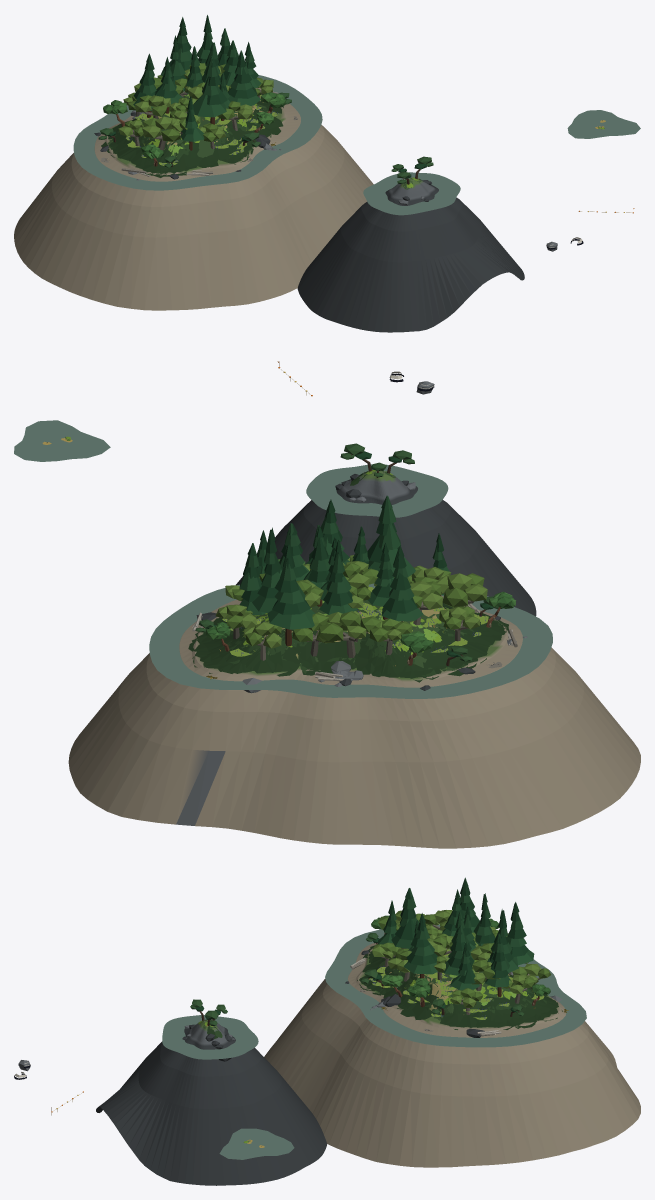
The model's file is chunk_-2_0.glb.
3 renders of one model, top to bottom at view 1: azimuth 30°, elevation 25°; view 2: azimuth 150°, elevation 25°; view 3: azimuth 270°, elevation 25°, orthographic. The views are drawn at different scales.
Parts seen in each view (by area): view 1: chunk_-2_0; view 2: chunk_-2_0; view 3: chunk_-2_0.
Part boxes in pixels (x1,y1,x2,y2): chunk_-2_0: (14,15,640,332); chunk_-2_0: (14,361,640,848); chunk_-2_0: (14,877,640,1185).
Size of the model in its own units: 159 by 55.18 by 160.
